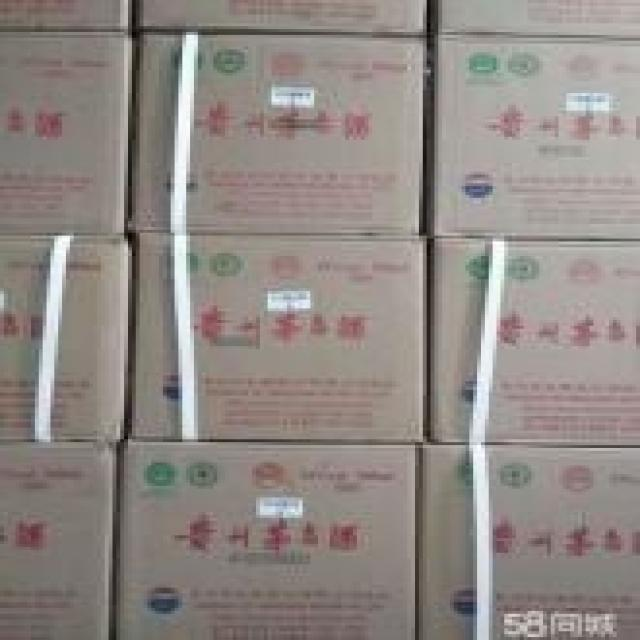box: (128, 233, 423, 442), (112, 442, 415, 640), (132, 35, 423, 236), (419, 445, 640, 640), (431, 241, 640, 445), (431, 38, 640, 241), (0, 32, 128, 236), (0, 239, 128, 442), (0, 442, 112, 640), (140, 0, 427, 35), (438, 0, 640, 38)
